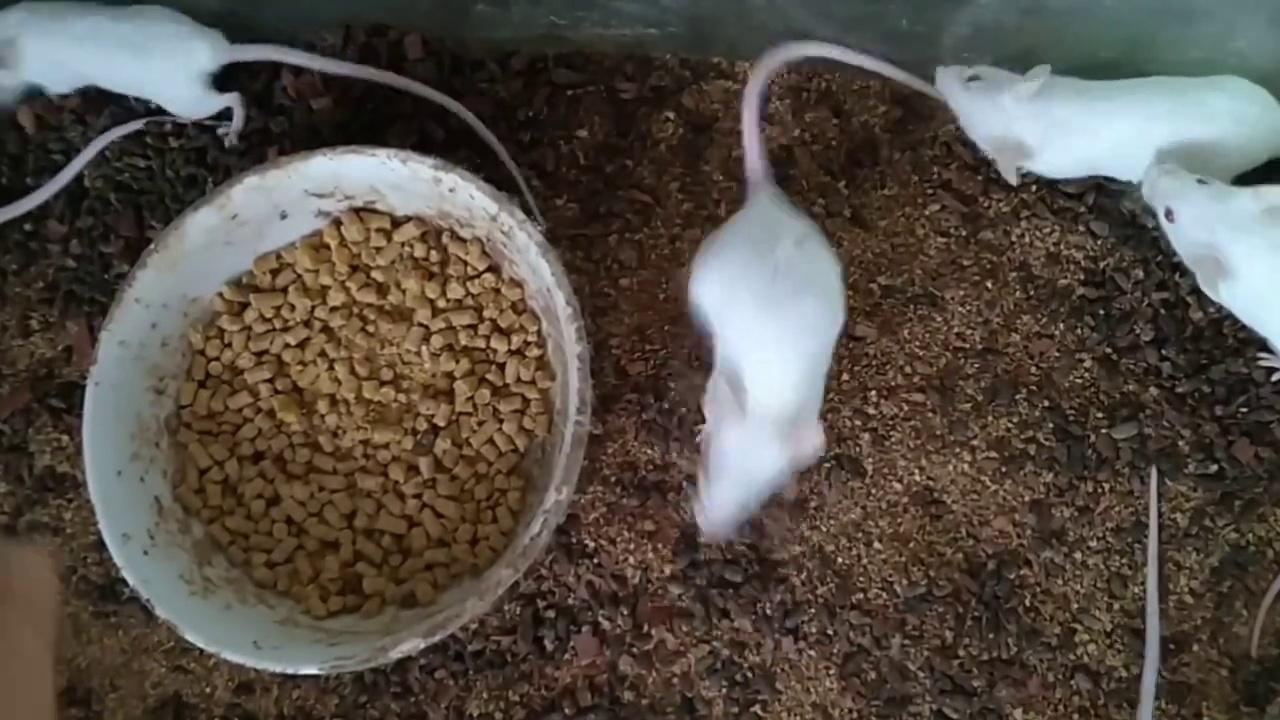rat: (688, 42, 941, 540), (0, 0, 546, 227), (935, 64, 1280, 183), (1142, 164, 1280, 382)
